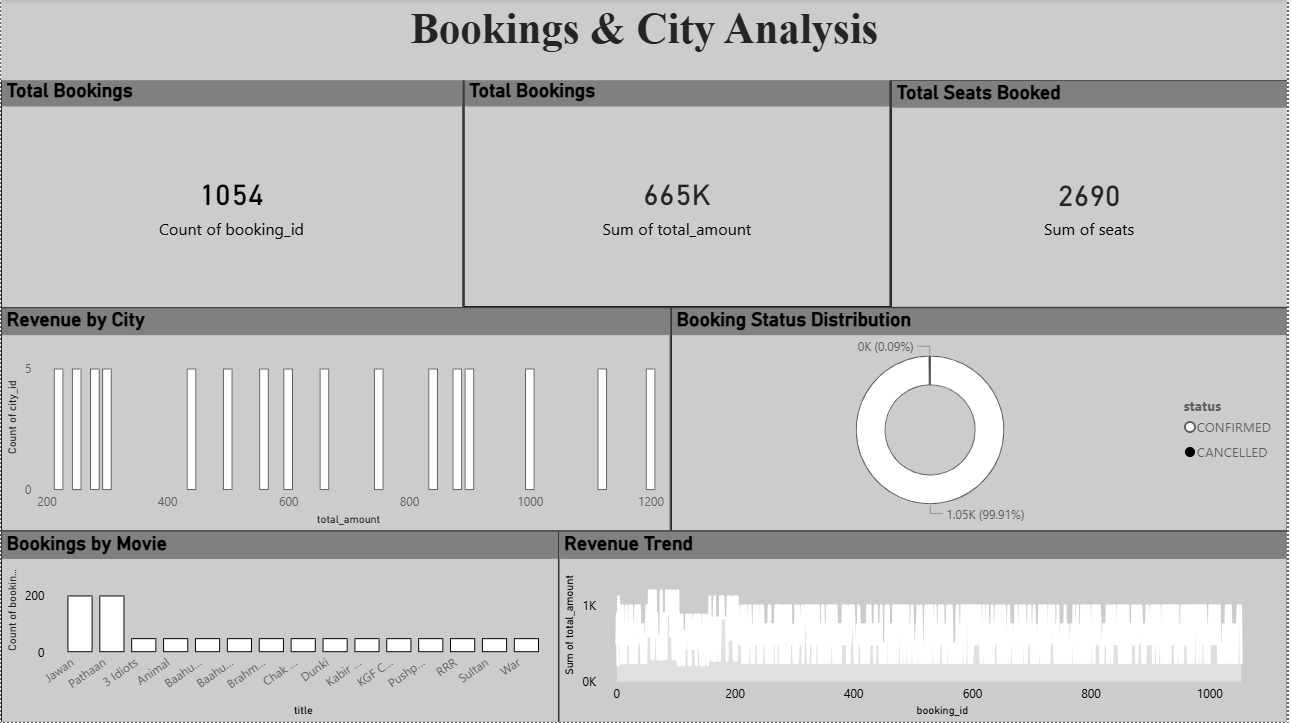

This screenshot's page, from the dashboard's own definition file:
{"tool":"powerbi","page":{"name":"Page 3","canvas":[1280,720],"ordinal":2},"visuals":[{"type":"card","title":"Total Bookings","fields":{"Values":["CountNonNull(bookings.booking_id)"]},"box":[0,79.6,459.7,227.8],"z":0},{"type":"card","title":"Total Bookings","fields":{"Values":["Sum(bookings.total_amount)"]},"box":[460.3,79.6,425.4,227.6],"z":1000},{"type":"card","title":"Total Seats Booked","fields":{"Values":["Sum(bookings.seats)"]},"box":[885.1,81,395.2,226.4],"z":2000},{"type":"clusteredColumnChart","title":"Bookings by Movie","fields":{"Category":["movies.title"],"Y":["CountNonNull(bookings.booking_id)"]},"box":[0,529.9,554.8,190.3],"z":3000},{"type":"clusteredColumnChart","title":"Revenue by City","fields":{"Y":["CountNonNull(cities.city_id)"],"Category":["bookings.total_amount"]},"box":[0,307.3,666.8,222.7],"z":4000},{"type":"donutChart","title":"Booking Status Distribution","fields":{"Category":["bookings.status"],"Y":["CountNonNull(bookings.booking_id)"]},"box":[666.9,307.4,613.4,222.3],"z":5000},{"type":"lineChart","title":"Revenue Trend","fields":{"Category":["bookings.booking_id"],"Y":["Sum(bookings.total_amount)"]},"box":[554.4,529.7,725.9,190.7],"z":6000},{"type":"textbox","box":[0,0,1280.3,81],"z":7000}]}

Visuals, with their boxes in screenshot pixels (x1, y1, x2, y2), scaled from the page's 1280x720 canvas onto the 1291x723 screenshot:
"Total Bookings" card: (left=0, top=80, right=464, bottom=309)
"Total Bookings" card: (left=464, top=80, right=893, bottom=308)
"Total Seats Booked" card: (left=893, top=81, right=1290, bottom=309)
"Bookings by Movie" clusteredColumnChart: (left=0, top=532, right=560, bottom=722)
"Revenue by City" clusteredColumnChart: (left=0, top=309, right=673, bottom=532)
"Booking Status Distribution" donutChart: (left=673, top=309, right=1290, bottom=532)
"Revenue Trend" lineChart: (left=559, top=532, right=1290, bottom=722)
textbox: (left=0, top=0, right=1290, bottom=81)
